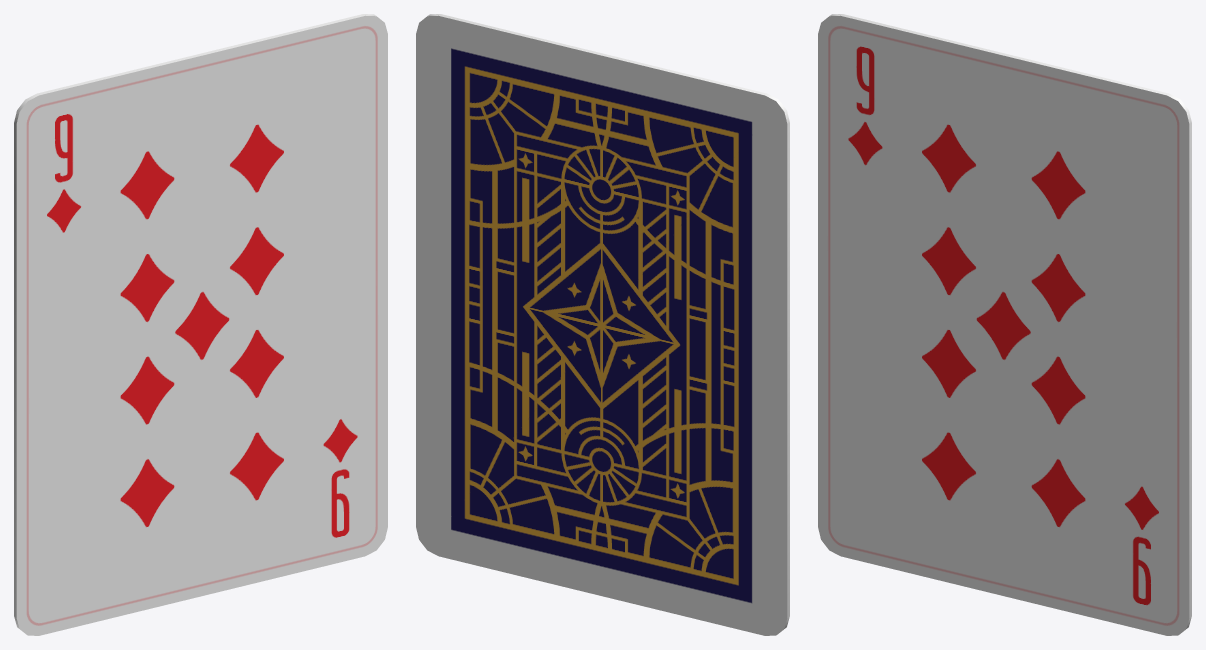
Rendered from card_diamonds_nine.obj.
3 views of the same model, side by side, from view 1: azimuth 30°, elevation 25°; view 2: azimuth 150°, elevation 25°; view 3: azimuth 330°, elevation 25° (orthographic).
Visible parts, largest first — view 1: card_diamonds_nine; view 2: card_diamonds_nine; view 3: card_diamonds_nine.
Boxes of the visible parts, <box> form: card_diamonds_nine: <box>14,14,387,635</box>; card_diamonds_nine: <box>416,14,789,635</box>; card_diamonds_nine: <box>818,14,1191,635</box>.
Bounding box in the file's own units: 4.31 × 6 × 0.05.
2 materials, 2 textured.
